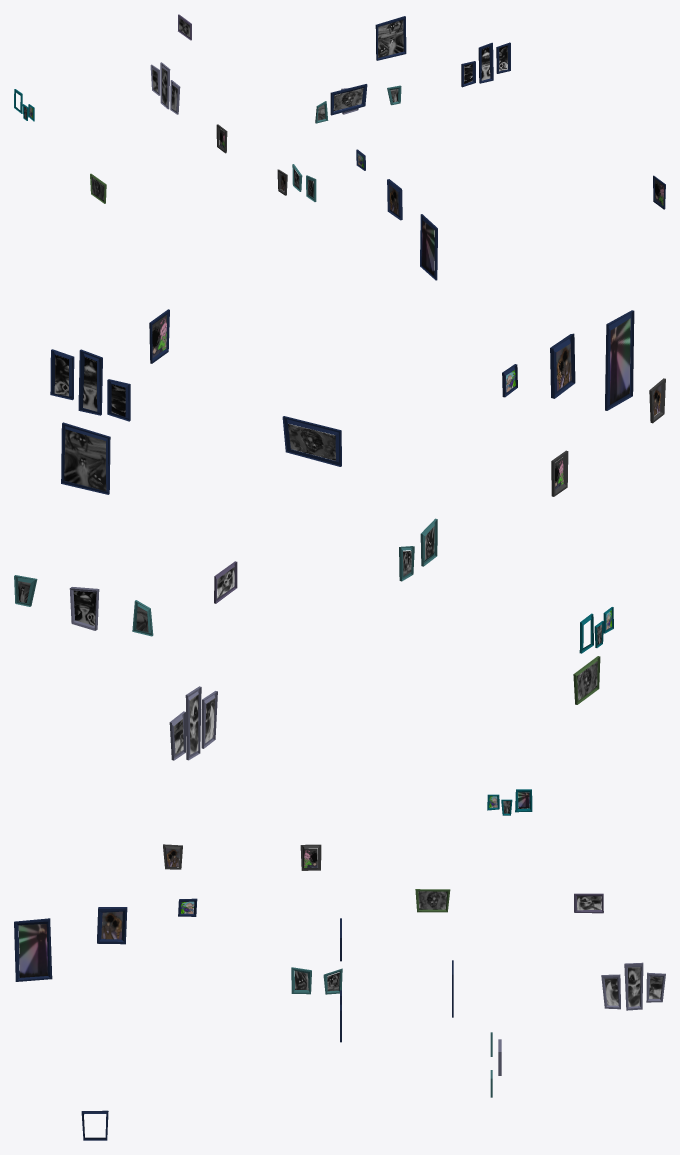
File: picture house.fbx
3 renders of one model, top to bottom at view 1: azimuth 30°, elevation 25°; view 2: azimuth 150°, elevation 25°; view 3: azimuth 270°, elevation 25°, orthographic. The views are drawn at different scales.
Visible parts, largest first — view 1: stuff living room.033, stuff living room.010, stuff living room.007, stuff living room.015, stuff living room.013, stuff living room.005, Cube.006; view 2: stuff living room.033, stuff living room.010, stuff living room.007, stuff living room.015, stuff living room.013, Cube.008, stuff living room.005, Cube.006, kitchen STUFF.008, stuff living room.016, stuff living room.025, Cube.007 (+4 smaller); view 3: stuff living room.010, stuff living room.013, Cube.006, kitchen STUFF.008, Cube.007, Music Room stuff.004, cabinet radio.001, Cube.004, stuff living room.006.
Part boxes in pixels (left/top/right/bottom): stuff living room.033: left=375, top=16, right=406, bottom=60; stuff living room.010: left=420, top=214, right=437, bottom=280; stuff living room.007: left=330, top=84, right=367, bottom=115; stuff living room.015: left=478, top=42, right=493, bottom=83; stuff living room.013: left=387, top=179, right=402, bottom=220; stuff living room.005: left=496, top=42, right=510, bottom=73; Cube.006: left=160, top=62, right=170, bottom=109; stuff living room.033: left=61, top=422, right=110, bottom=494; stuff living room.010: left=605, top=310, right=634, bottom=410; stuff living room.007: left=282, top=416, right=341, bottom=466; stuff living room.015: left=78, top=349, right=102, bottom=415; stuff living room.013: left=550, top=333, right=575, bottom=398; Cube.008: left=69, top=587, right=99, bottom=630; stuff living room.005: left=50, top=349, right=74, bottom=400; Cube.006: left=185, top=686, right=201, bottom=760; kitchen STUFF.008: left=573, top=656, right=600, bottom=704; stuff living room.016: left=107, top=379, right=130, bottom=421; stuff living room.025: left=149, top=309, right=169, bottom=363; Cube.007: left=201, top=691, right=217, bottom=748; stuff living room.010: left=14, top=918, right=52, bottom=981; stuff living room.013: left=97, top=907, right=127, bottom=944; Cube.006: left=624, top=962, right=643, bottom=1010; kitchen STUFF.008: left=415, top=889, right=450, bottom=912; Cube.007: left=601, top=974, right=620, bottom=1009; Music Room stuff.004: left=574, top=893, right=603, bottom=913; cabinet radio.001: left=300, top=844, right=321, bottom=870; Cube.004: left=646, top=972, right=665, bottom=1002; stuff living room.006: left=291, top=967, right=311, bottom=994.
Bounding box in the file's own units: 36.85 × 8.5 × 40.23.
Materials: 9 (2 with a texture image).
